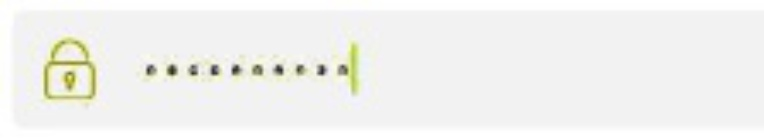EditText: (1, 1, 763, 139)
